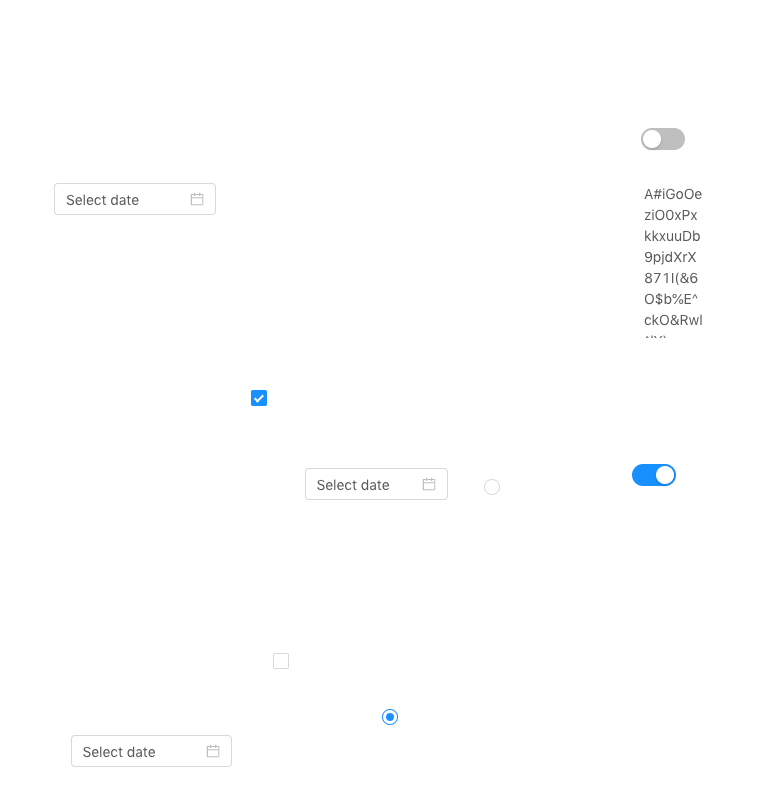Checkbox: (273, 650, 289, 671), (251, 387, 267, 408)
DatePicker: (54, 183, 216, 215), (71, 735, 232, 767), (305, 468, 448, 500)
Radio: (484, 476, 500, 496), (382, 706, 398, 726)
Switch: (641, 127, 685, 151), (632, 463, 676, 487)
Text: (644, 183, 704, 338)
